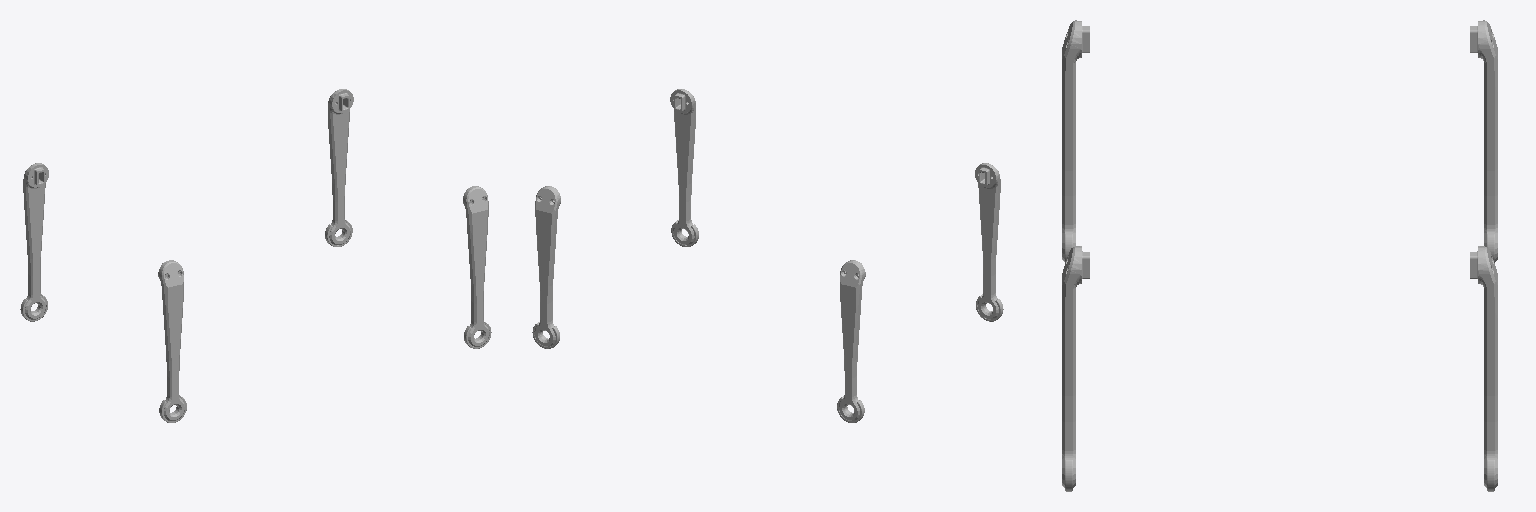
URDF robot description (solo8_URDF_v4):
<?xml version="1.0" encoding="utf-8"?>
<!-- This URDF was automatically created by SolidWorks to URDF Exporter! Originally created by [author] ([email redacted]) 
     Commit Version: 1.6.0-1-g15f4949  Build Version: 1.6.7594.29634
     For more information, please see http://wiki.ros.org/sw_urdf_exporter -->
<robot
  name="solo8_URDF_v4">
  <link
    name="base_link">
    <inertial>
      <origin
        xyz="-0.000131243804565513 -2.1877512663984E-07 -0.0434999979123721"
        rpy="0 0 0" />
      <mass
        value="1.08310148935514" />
      <inertia
        ixx="0.00078292100000959"
        ixy="-2.4726499499223E-09"
        ixz="-3.63300254721981E-10"
        iyy="0.00259878031126529"
        iyz="-1.55590918624866E-08"
        izz="0.00245312418407862" />
    </inertial>
    <visual>
      <origin
        xyz="0 0 0"
        rpy="0 0 0" />
      <geometry>
        <mesh
          filename="base_link.obj" />
      </geometry>
      <material
        name="">
        <color
          rgba="0.752941176470588 0.752941176470588 0.752941176470588 1" />
      </material>
    </visual>
    <collision>
      <origin
        xyz="0 0 0"
        rpy="0 0 0" />
      <!-- <geometry>
        <mesh
          filename="base_link.obj" />
      </geometry> -->
      <geometry>
        <box size="0.2 0.2 0.1"/>
      </geometry>
    </collision>
  </link>
  <link
    name="rear_left_upper_leg">
    <inertial>
      <origin
        xyz="0.0260463560497017 1.96058726216197E-05 0.0818383915482504"
        rpy="0 0 0" />
      <mass
        value="0.0878533269246308" />
      <inertia
        ixx="0.000160165468405235"
        ixy="5.98615459821546E-09"
        ixz="-1.01735410352558E-05"
        iyy="0.00015477566312305"
        iyz="7.25231006351549E-08"
        izz="1.45900829531821E-05" />
    </inertial>
    <visual>
      <origin
        xyz="0 0 0"
        rpy="0 0 0" />
      <geometry>
        <mesh
          filename="rear_left_upper_leg.obj" />
      </geometry>
      <material
        name="">
        <color
          rgba="0.752941176470588 0.752941176470588 0.752941176470588 1" />
      </material>
    </visual>
    <collision>
      <origin
        xyz="0 0 0"
        rpy="0 0 0" />
      <!-- <geometry>
        <mesh
          filename="rear_left_upper_leg.obj" />
      </geometry> -->
      <geometry>
        <box size="0.1 0.1 0.1"/>
      </geometry>
    </collision>
  </link>
  <joint
    name="HL_HFE"
    type="revolute">
    <origin
      xyz="0.19 -0.09805 -0.0435"
      rpy="3.1416 0 -1.5708" />
    <parent
      link="base_link" />
    <child
      link="rear_left_upper_leg" />
    <axis
      xyz="1 0 0" />
    <limit
      lower="-10"
      upper="10"
      effort="1000"
      velocity="1000" />
  </joint>
  <link
    name="rear_left_lower_leg">
    <inertial>
      <origin
        xyz="0.00798615918661305 -1.97240518362563E-09 0.0871955396993983"
        rpy="0 0 0" />
      <mass
        value="0.0568162066846248" />
      <inertia
        ixx="0.000116328623228087"
        ixy="-1.4413584564191E-12"
        ixz="-2.14214688984561E-06"
        iyy="0.000115301324090038"
        iyz="-6.13770553608215E-10"
        izz="3.92621698046174E-06" />
    </inertial>
    <visual>
      <origin
        xyz="0 0 0"
        rpy="0 0 0" />
      <geometry>
        <mesh
          filename="front_left_lower_leg.obj" />
      </geometry>
      <material
        name="">
        <color
          rgba="0.752941176470588 0.752941176470588 0.752941176470588 1" />
      </material>
    </visual>
    <collision>
      <origin
        xyz="0 0 0"
        rpy="0 0 0" />
     <!--  <geometry>
        <mesh
          filename="front_left_lower_leg.obj" />
      </geometry> -->
      <geometry>
        <box size="0.1 0.1 0.1"/>
      </geometry>
    </collision>
  </link>
  <joint
    name="HL_KFE"
    type="revolute">
    <origin
      xyz="0.0519500000000016 0 0.16"
      rpy="-1.5707963267949 0 -3.14159265358979" />
    <parent
      link="rear_left_upper_leg" />
    <child
      link="rear_left_lower_leg" />
    <axis
      xyz="1 0 0" />
    <limit
      lower="-10"
      upper="10"
      effort="1000"
      velocity="1000" />
  </joint>

  <link
    name="rear_right_upper_leg">
    <inertial>
      <origin
        xyz="0.0260463416796457 0.0818382398206385 -1.96475353925196E-05"
        rpy="0 0 0" />
      <mass
        value="0.0878534992285754" />
      <inertia
        ixx="0.000160166486207479"
        ixy="-1.0173668173731E-05"
        ixz="-6.02181345311133E-09"
        iyy="1.45901216597277E-05"
        iyz="-7.2801573302373E-08"
        izz="0.000154776708796327" />
    </inertial>
    <visual>
      <origin
        xyz="0 0 0"
        rpy="0 0 0" />
      <geometry>
        <mesh
          filename="rear_right_upper_leg.obj" />
      </geometry>
      <material
        name="">
        <color
          rgba="0.752941176470588 0.752941176470588 0.752941176470588 1" />
      </material>
    </visual>
    <collision>
      <origin
        xyz="0 0 0"
        rpy="0 0 0" />
      <!-- <geometry>
        <mesh
          filename="rear_right_upper_leg.obj" />
      </geometry> -->
      <geometry>
        <box size="0.1 0.1 0.1"/>
      </geometry>
    </collision>
  </link>
  <joint
    name="HR_HFE"
    type="revolute">
    <origin
      xyz="0.19 0.09805 -0.0435"
      rpy="-1.5708 0 1.5708" />
    <parent
      link="base_link" />
    <child
      link="rear_right_upper_leg" />
    <axis
      xyz="1 0 0" />
    <limit
      lower="-10"
      upper="10"
      effort="1000"
      velocity="1000" />
  </joint>
  <link
    name="rear_right_lower_leg">
    <inertial>
      <origin
        xyz="-0.00797510895141648 2.02971700558052E-09 0.0871955400372977"
        rpy="0 0 0" />
      <mass
        value="0.0568162062662583" />
      <inertia
        ixx="0.000116328622478411"
        ixy="-1.44920779054025E-12"
        ixz="2.14214690301966E-06"
        iyy="0.000115301448850468"
        iyz="7.24188217803086E-10"
        izz="3.92609149618552E-06" />
    </inertial>
    <visual>
      <origin
        xyz="0 0 0"
        rpy="0 0 0" />
      <geometry>
        <mesh
          filename="front_right_lower_leg.obj" />
      </geometry>
      <material
        name="">
        <color
          rgba="0.752941176470588 0.752941176470588 0.752941176470588 1" />
      </material>
    </visual>
    <collision>
      <origin
        xyz="0 0 0"
        rpy="0 0 0" />
      <!-- <geometry>
        <mesh
          filename="front_right_lower_leg.obj" />
      </geometry> -->
      <geometry>
        <box size="0.1 0.1 0.1"/>
      </geometry>
    </collision>
  </link>
  <joint
    name="HR_KFE"
    type="revolute">
    <origin
      xyz="0.051950000000001 0.16 0"
      rpy="0 0 -3.1416" />
    <parent
      link="rear_right_upper_leg" />
    <child
      link="rear_right_lower_leg" />
    <axis
      xyz="-1 0 0" />
    <limit
      lower="-10"
      upper="10"
      effort="1000"
      velocity="1000" />
  </joint>
  
  <link
    name="front_left_upper_leg">
    <inertial>
      <origin
        xyz="0.0260463213501499 1.96051061115143E-05 0.0818380959136073"
        rpy="0 0 0" />
      <mass
        value="0.0878537035476835" />
      <inertia
        ixx="0.000160165160326423"
        ixy="5.97988996236533E-09"
        ixz="-1.01734766862367E-05"
        iyy="0.000154775389279724"
        iyz="7.2491964765402E-08"
        izz="1.45901195907274E-05" />
    </inertial>
    <visual>
      <origin
        xyz="0 0 0"
        rpy="0 0 0" />
      <geometry>
        <mesh
          filename="front_left_upper_leg.obj" />
      </geometry>
      <material
        name="">
        <color
          rgba="0.752941176470588 0.752941176470588 0.752941176470588 1" />
      </material>
    </visual>
    <collision>
      <origin
        xyz="0 0 0"
        rpy="0 0 0" />
     <!--  <geometry>
        <mesh
          filename="front_left_upper_leg.obj" />
      </geometry> -->
      <geometry>
        <box size="0.1 0.1 0.1"/>
      </geometry>
    </collision>
  </link>
  <joint
    name="FL_HFE"
    type="revolute">
    <origin
      xyz="-0.19 -0.09805 -0.0435"
      rpy="3.1416 0 -1.5708" />
    <parent
      link="base_link" />
    <child
      link="front_left_upper_leg" />
    <axis
      xyz="1 0 0" />
    <limit
      lower="-10"
      upper="10"
      effort="1000"
      velocity="1000" />
  </joint>
  <link
    name="front_left_lower_leg">
    <inertial>
      <origin
        xyz="0.000812954907024432 -0.0709663568959096 3.16708653191888E-08"
        rpy="0 0 0" />
      <mass
        value="0.0352176463863073" />
      <inertia
        ixx="0.000102544957886135"
        ixy="-1.95338237262207E-06"
        ixz="-1.83862183857662E-12"
        iyy="1.73308119670232E-06"
        iyz="-6.55038614981896E-11"
        izz="0.000101666357617047" />
    </inertial>
    <visual>
      <origin
        xyz="0 0 0"
        rpy="0 0 0" />
      <geometry>
        <mesh
          filename="front_left_lower_leg.obj" />
      </geometry>
      <material
        name="">
        <color
          rgba="0.752941176470588 0.752941176470588 0.752941176470588 1" />
      </material>
    </visual>
    <collision>
      <origin
        xyz="0 0 0"
        rpy="0 0 0" />
     <!--  <geometry>
        <mesh
          filename="front_left_lower_leg.obj" />
      </geometry> -->
      <geometry>
        <box size="0.1 0.1 0.1"/>
      </geometry>
    </collision>
  </link>
  <joint
    name="FL_KFE"
    type="revolute">
    <origin
      xyz="0.0519500000000016 0 0.16"
      rpy="-1.5707963267949 0 -3.14159265358979" />
    <parent
      link="front_left_upper_leg" />
    <child
      link="front_left_lower_leg" />
    <axis
      xyz="-1 0 0" />
    <limit
      lower="-10"
      upper="10"
      effort="1000"
      velocity="1000" />
  </joint>
  <link
    name="front_right_upper_leg">
    <inertial>
      <origin
        xyz="0.0260462217616799 0.0818371669464919 -1.96409034333711E-05"
        rpy="0 0 0" />
      <mass
        value="0.087854821599005" />
      <inertia
        ixx="0.000160172872993533"
        ixy="-1.01744862780989E-05"
        ixz="-6.02462268517269E-09"
        iyy="1.45900414152232E-05"
        iyz="-7.28060149796806E-08"
        izz="0.000154783006946061" />
    </inertial>
    <visual>
      <origin
        xyz="0 0 0"
        rpy="0 0 0" />
      <geometry>
        <mesh
          filename="front_right_upper_leg.obj" />
      </geometry>
      <material
        name="">
        <color
          rgba="0.752941176470588 0.752941176470588 0.752941176470588 1" />
      </material>
    </visual>
    <collision>
      <origin
        xyz="0 0 0"
        rpy="0 0 0" />
      <!-- <geometry>
        <mesh
          filename="front_right_upper_leg.obj" />
      </geometry> -->
      <geometry>
        <box size="0.1 0.1 0.1"/>
      </geometry>
    </collision>
  </link>
  <joint
    name="FR_HFE"
    type="revolute">
    <origin
      xyz="-0.190000000000001 0.0980500000000003 -0.0434999999999995"
      rpy="-1.5707963267949 0 1.5707963267949" />
    <parent
      link="base_link" />
    <child
      link="front_right_upper_leg" />
    <axis
      xyz="1 0 0" />
    <limit
      lower="-10"
      upper="10"
      effort="1000"
      velocity="1000" />
  </joint>
  <link
    name="front_right_lower_leg">
    <inertial>
      <origin
        xyz="0.00081295491320274 -0.0709663564341324 3.1561713798034E-08"
        rpy="0 0 0" />
      <mass
        value="0.0352176467961685" />
      <inertia
        ixx="0.000102544958492936"
        ixy="-1.95338234788562E-06"
        ixz="-1.84048280454168E-12"
        iyy="1.73308122040895E-06"
        iyz="-6.53557905951406E-11"
        izz="0.000101666358172514" />
    </inertial>
    <visual>
      <origin
        xyz="0 0 0"
        rpy="0 0 0" />
      <geometry>
        <mesh
          filename="front_right_lower_leg.obj" />
      </geometry>
      <material
        name="">
        <color
          rgba="0.752941176470588 0.752941176470588 0.752941176470588 1" />
      </material>
    </visual>
    <collision>
      <origin
        xyz="0 0 0"
        rpy="0 0 0" />
      <!-- <geometry>
        <mesh
          filename="front_right_lower_leg.obj" />
      </geometry> -->
      <geometry>
        <box size="0.1 0.1 0.1"/>
      </geometry>
    </collision>
  </link>
  <joint
    name="FR_KFE"
    type="revolute">
    <origin
      xyz="0.051950000000001 0.16 0"
      rpy="0 0 -3.14159265358979" />
    <parent
      link="front_right_upper_leg" />
    <child
      link="front_right_lower_leg" />
    <axis
      xyz="-1 0 0" />
    <limit
      lower="-10"
      upper="10"
      effort="1000"
      velocity="1000" />
  </joint>
</robot>

--- What the picture shows (computed from the rendered views, not written in the file) ---
The picture shows the robot from 3 angles, left to right: view 1: azimuth 30°, elevation 25°; view 2: azimuth 150°, elevation 25°; view 3: azimuth 270°, elevation 25°; orthographic projection.
Robot: solo8_URDF_v4 — 9 links, 8 joints (8 revolute); root link base_link; default pose: every joint at zero.
Links seen in each view (by area): view 1: rear_left_lower_leg, front_left_lower_leg, front_right_lower_leg, rear_right_lower_leg; view 2: rear_right_lower_leg, front_right_lower_leg, front_left_lower_leg, rear_left_lower_leg; view 3: rear_left_lower_leg, rear_right_lower_leg, front_left_lower_leg, front_right_lower_leg.
Link boxes in pixels (x1,y1,x2,y2): rear_left_lower_leg: [463, 186, 491, 348]; front_left_lower_leg: [158, 260, 186, 422]; front_right_lower_leg: [20, 163, 48, 321]; rear_right_lower_leg: [325, 89, 353, 246]; rear_right_lower_leg: [532, 186, 560, 348]; front_right_lower_leg: [837, 260, 865, 422]; front_left_lower_leg: [975, 163, 1003, 321]; rear_left_lower_leg: [670, 89, 698, 246]; rear_left_lower_leg: [1062, 246, 1089, 491]; rear_right_lower_leg: [1470, 246, 1497, 491]; front_left_lower_leg: [1062, 20, 1089, 262]; front_right_lower_leg: [1470, 20, 1497, 262].
Bounding box of the posed robot: 0.4118 × 0.31 × 0.1894 m (x, y, z).
4 mesh visuals loaded from 7 distinct referenced files (2 OBJ); not drawn: 5 (reference not matched to a file when rendering).